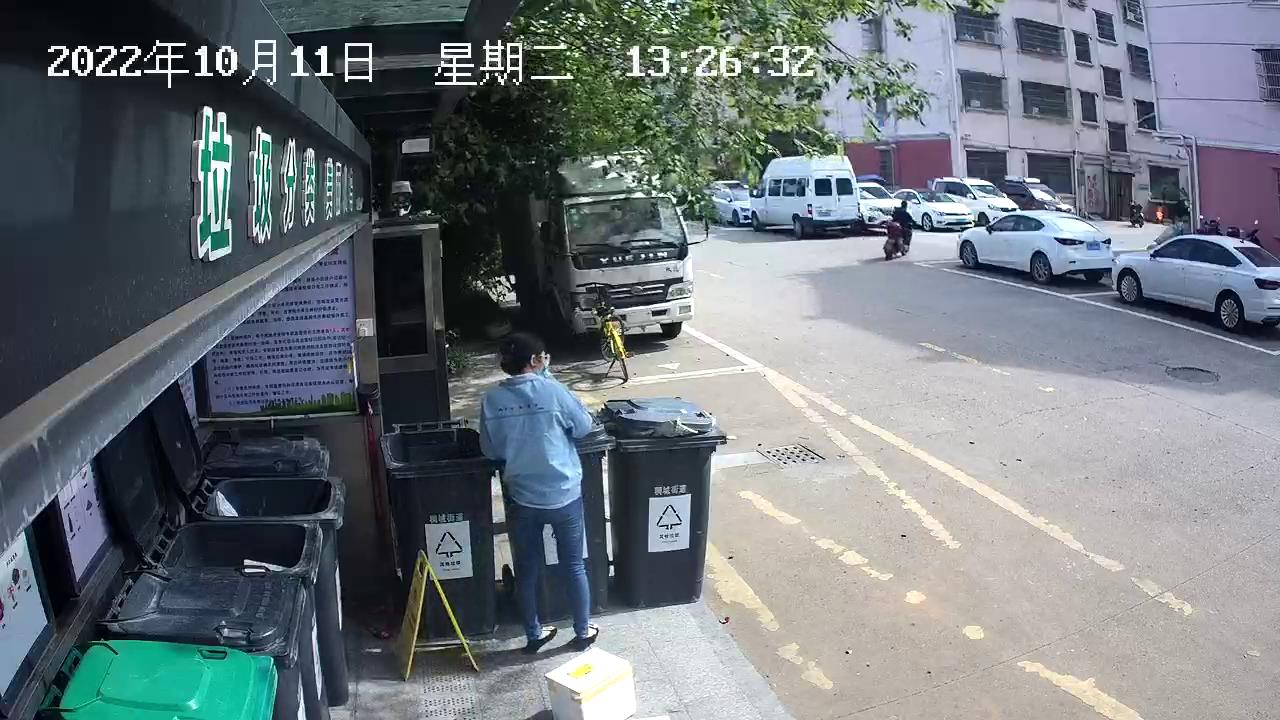worker: (475, 328, 607, 651)
zhizhipin: (542, 645, 643, 720)
